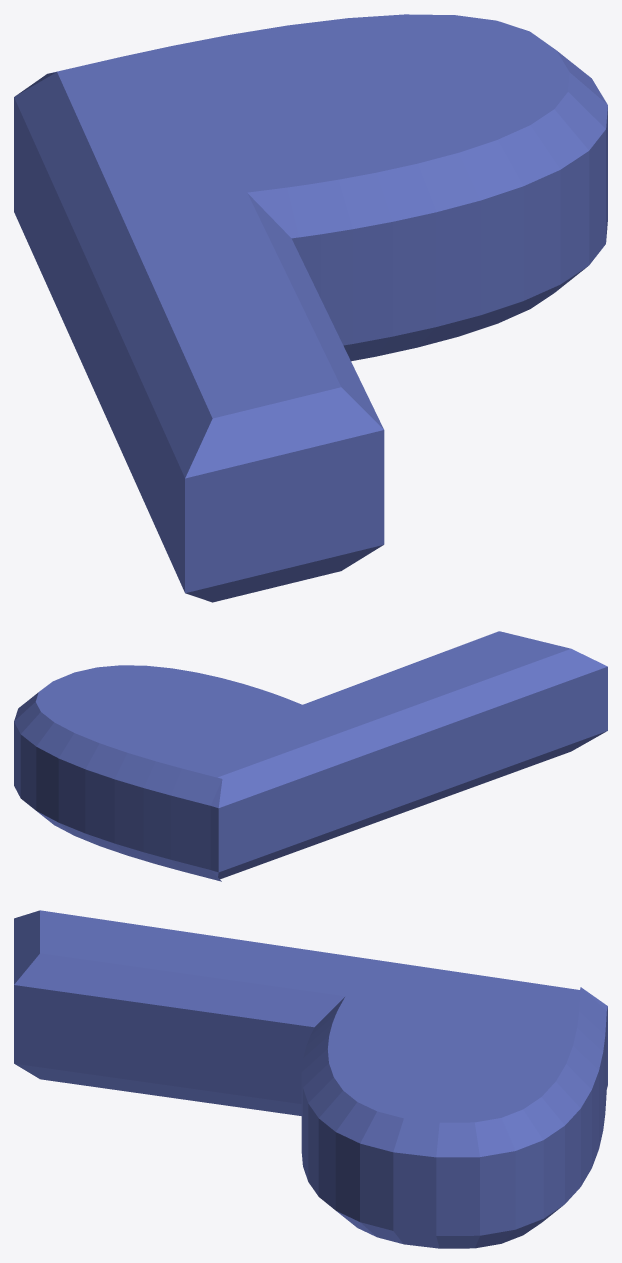
Rendered from p do play.fbx.
3 views of the same model, one above another, from view 1: azimuth 30°, elevation 25°; view 2: azimuth 150°, elevation 25°; view 3: azimuth 270°, elevation 25° (orthographic). The views are drawn at different scales.
Visible parts, largest first — view 1: Curve.001; view 2: Curve.001; view 3: Curve.001.
Part boxes in pixels (bbox=[...]): Curve.001: bbox=[14, 14, 607, 602]; Curve.001: bbox=[14, 631, 607, 881]; Curve.001: bbox=[14, 910, 607, 1248].
Size of the model in its own units: 101 by 24.88 by 106.
